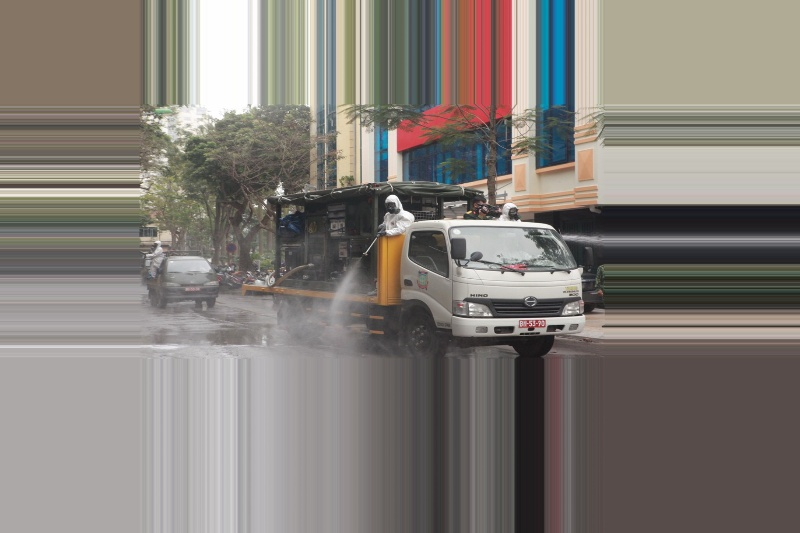plate: (516, 315, 552, 332), (186, 285, 203, 295)
